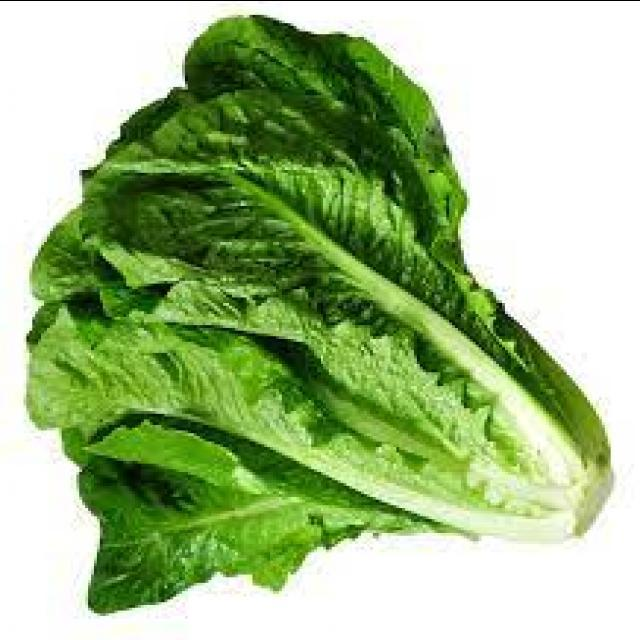Lettuce: (32, 15, 615, 615)
